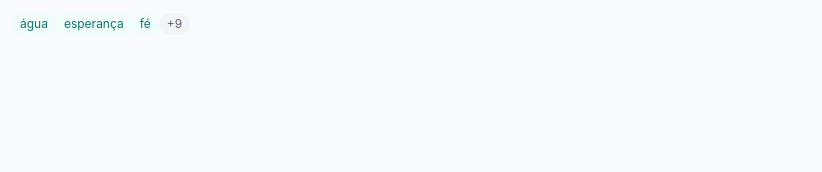
Test: TemaChips — o '+N' na linha da lista e na ficha › na ficha o '+N' é botão, expande e volta a dobrar
Later steps or results of the test are not shown.
expect the number of buttons with test id "tema-chip" is 3: met, box 12,13 -> 56,35; 56,13 -> 132,35; 132,13 -> 159,35
Step 1. Click the button "+9" → [174, 24], box 159,13 -> 190,35
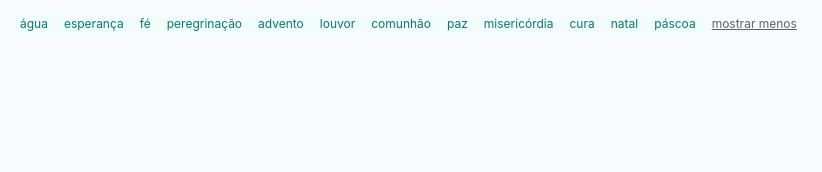
expect the number of buttons with test id "tema-chip" is 12: met
expect the button "mostrar menos" is shown: met, box 704,13 -> 805,35
